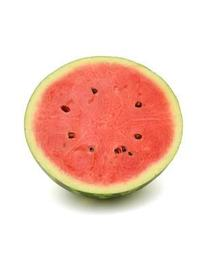watermelon: (24, 54, 184, 200)
